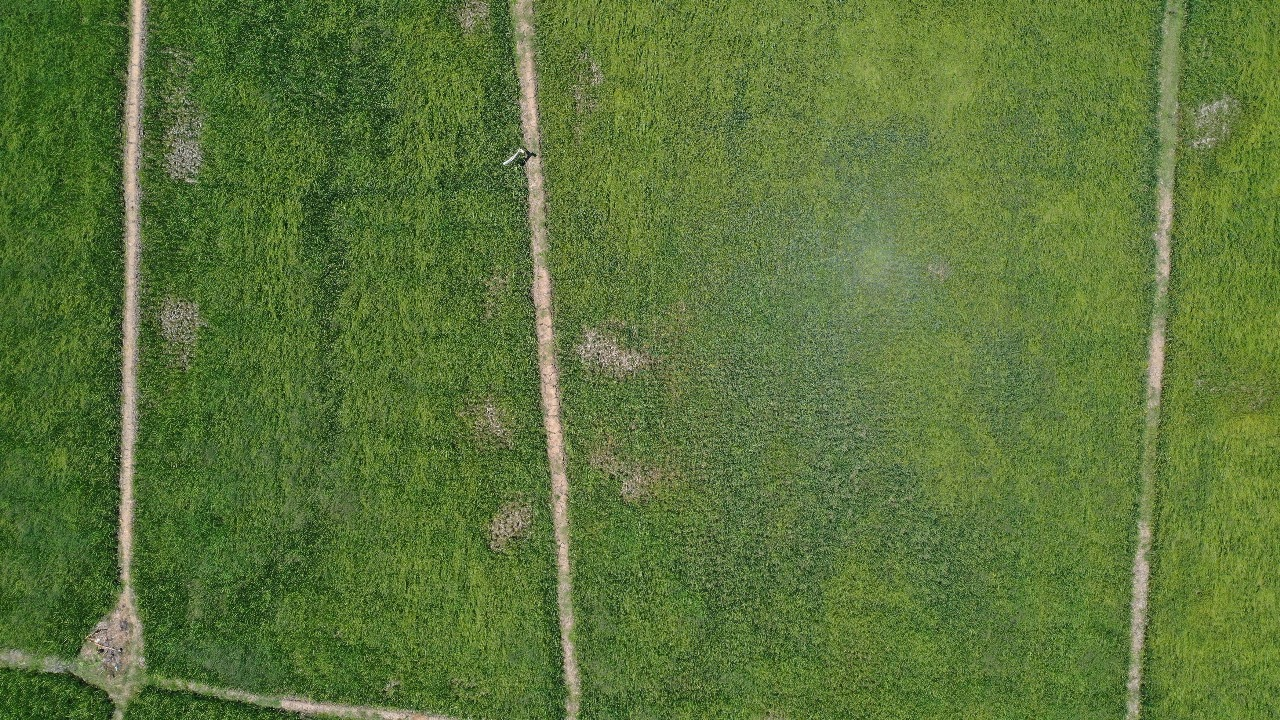irigation: (508, 3, 600, 719), (1123, 1, 1187, 720), (1, 643, 458, 720), (115, 1, 149, 720)
